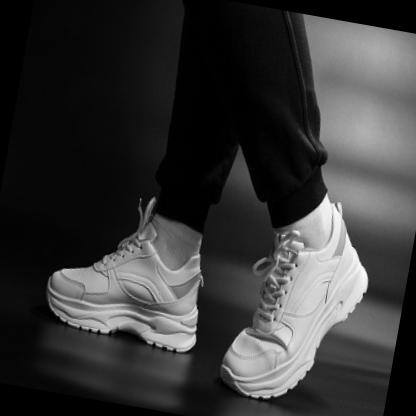ankle: (323, 247, 326, 251), (168, 270, 171, 274)
heel: (353, 253, 356, 257), (193, 307, 196, 311)
left_foot: (40, 225, 212, 356)
pinky: (258, 371, 260, 374), (63, 271, 65, 273)
right_foot: (218, 206, 378, 412)
toe: (227, 353, 230, 357), (54, 290, 56, 292)
